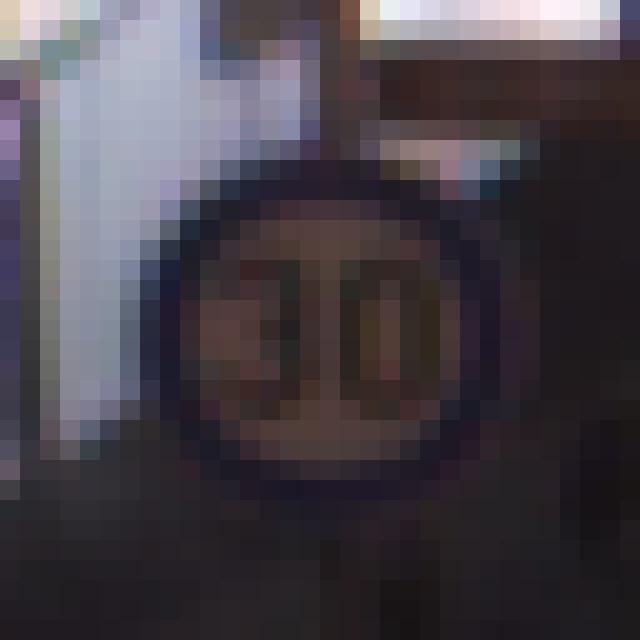SPEED LIMIT 30: (130, 122, 510, 530)
